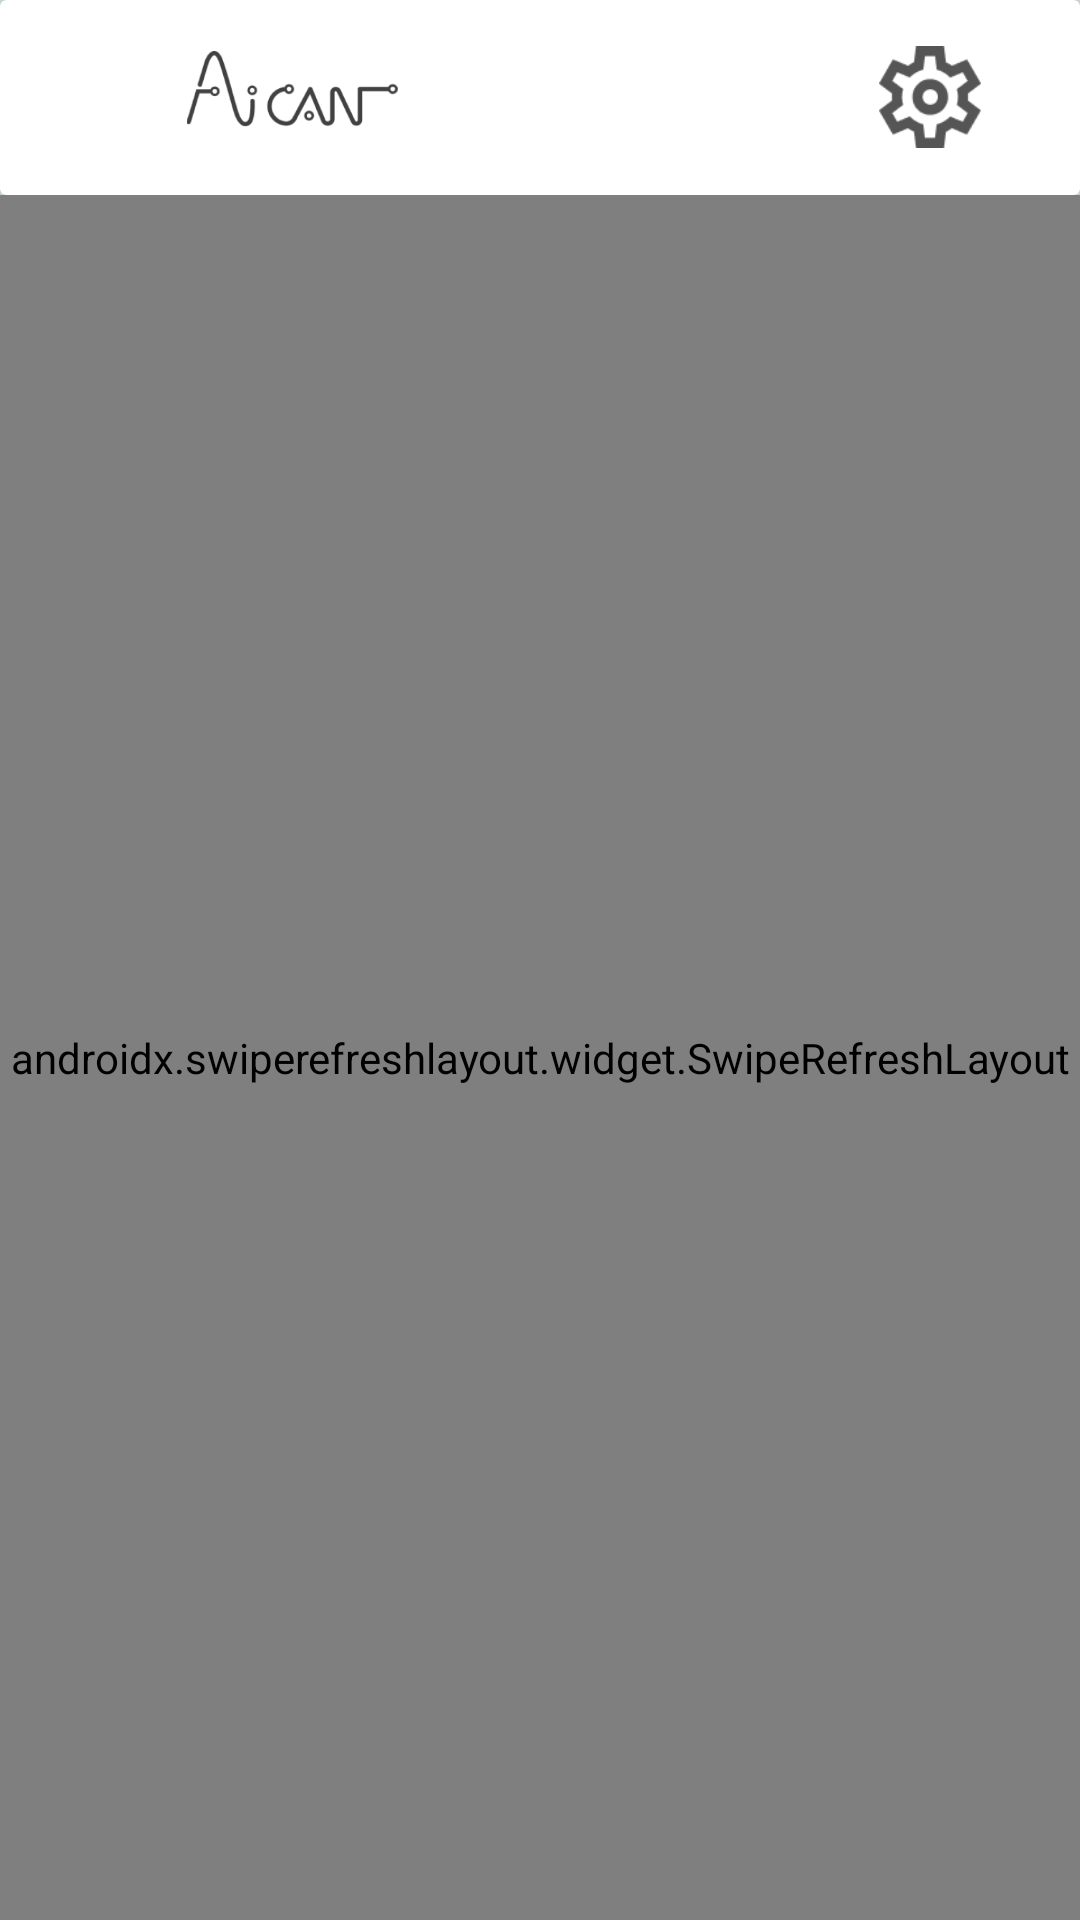

Icons on this 1080×1920 Android screen, each with its box as (x1, y1, x2, y2):
setting: (879, 46, 981, 148)
